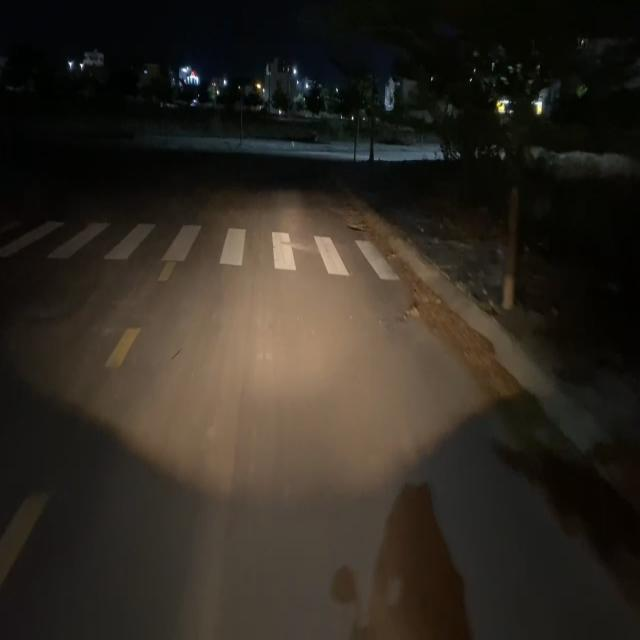walk-crossing: (0, 200, 402, 286)
